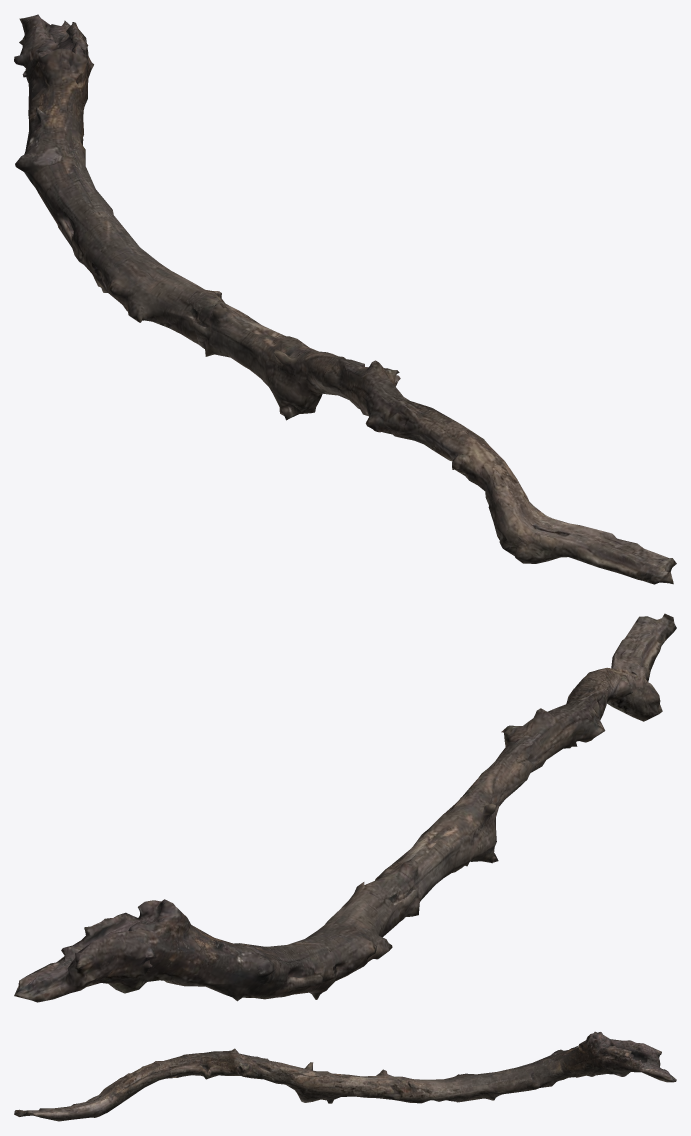
3 views of the same model, one above another, from view 1: azimuth 30°, elevation 25°; view 2: azimuth 150°, elevation 25°; view 3: azimuth 270°, elevation 25° (orthographic). The views are drawn at different scales.
Visible parts, largest first — view 1: dry_branches_medium_01__b_lod0; view 2: dry_branches_medium_01__b_lod0; view 3: dry_branches_medium_01__b_lod0.
Part boxes in pixels (x1,y1,x2,y2): dry_branches_medium_01__b_lod0: [14, 14, 676, 584]; dry_branches_medium_01__b_lod0: [14, 613, 676, 1002]; dry_branches_medium_01__b_lod0: [14, 1031, 676, 1121].
Size of the model in its own units: 0.1512 by 0.1412 by 1.04.
1 material, 1 textured.
